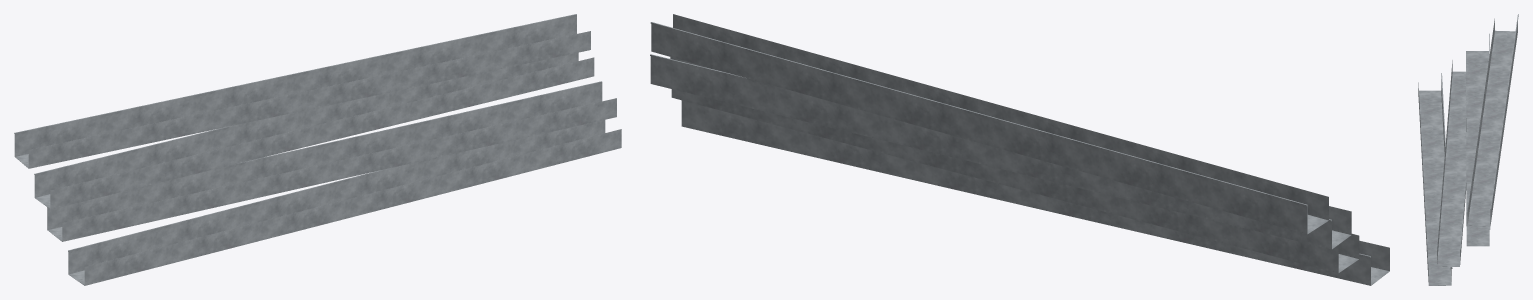
The model's file is COB-CAL-001_anim.glb.
3 views of the same model, side by side, from view 1: azimuth 30°, elevation 25°; view 2: azimuth 150°, elevation 25°; view 3: azimuth 270°, elevation 25° (orthographic). The views are drawn at different scales.
Visible parts, largest first — view 1: COB-CAL-001_anim3, COB-CAL-001_anim1, COB-CAL-001_anim0, COB-CAL-001_anim2; view 2: COB-CAL-001_anim3, COB-CAL-001_anim2, COB-CAL-001_anim0, COB-CAL-001_anim1; view 3: COB-CAL-001_anim3, COB-CAL-001_anim1, COB-CAL-001_anim0, COB-CAL-001_anim2.
Part boxes in pixels (box(x1,y1,x2,y2)): COB-CAL-001_anim3: box(14, 14, 590, 168); COB-CAL-001_anim1: box(47, 81, 616, 241); COB-CAL-001_anim0: box(68, 120, 621, 285); COB-CAL-001_anim2: box(34, 52, 594, 209); COB-CAL-001_anim3: box(650, 14, 1328, 234); COB-CAL-001_anim2: box(650, 54, 1351, 249); COB-CAL-001_anim0: box(681, 100, 1389, 285); COB-CAL-001_anim1: box(671, 89, 1359, 273); COB-CAL-001_anim3: box(1467, 14, 1518, 226); COB-CAL-001_anim1: box(1437, 60, 1466, 266); COB-CAL-001_anim0: box(1418, 73, 1452, 285); COB-CAL-001_anim2: box(1466, 33, 1490, 246).
Bounding box in the file's own units: 3.03 × 0.5451 × 0.6536.
1 material, 1 textured.
